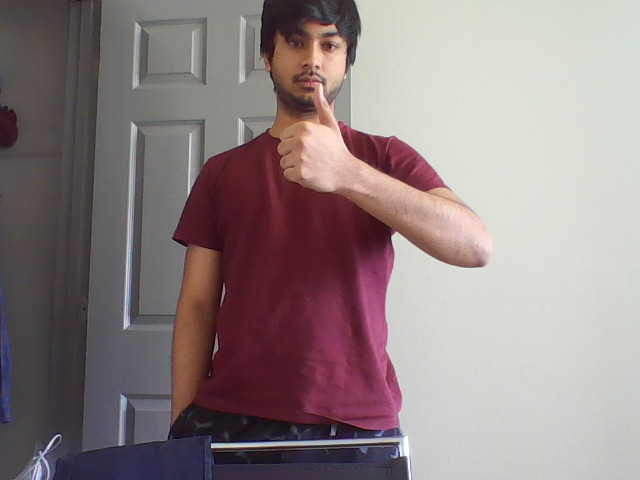confirm: (277, 79, 353, 200)
